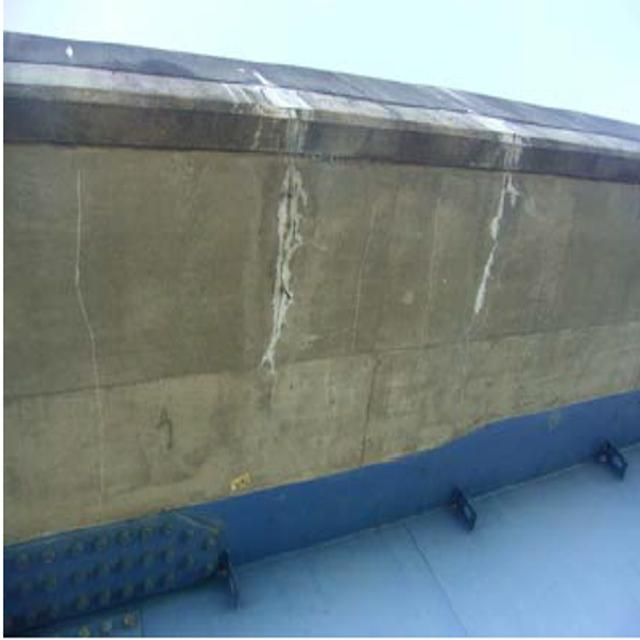freelime: (247, 68, 330, 366), (477, 110, 533, 334)
